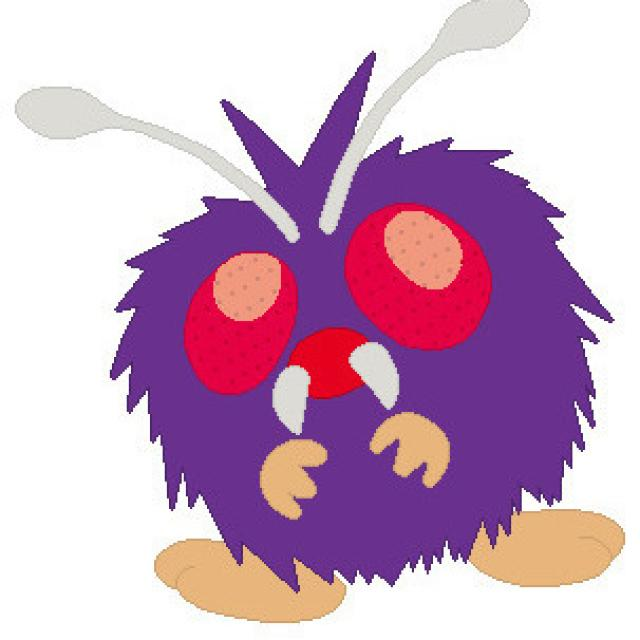Venonat: (107, 54, 589, 601)
